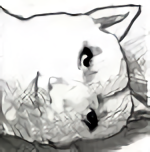dragon: (26, 32, 107, 135)
